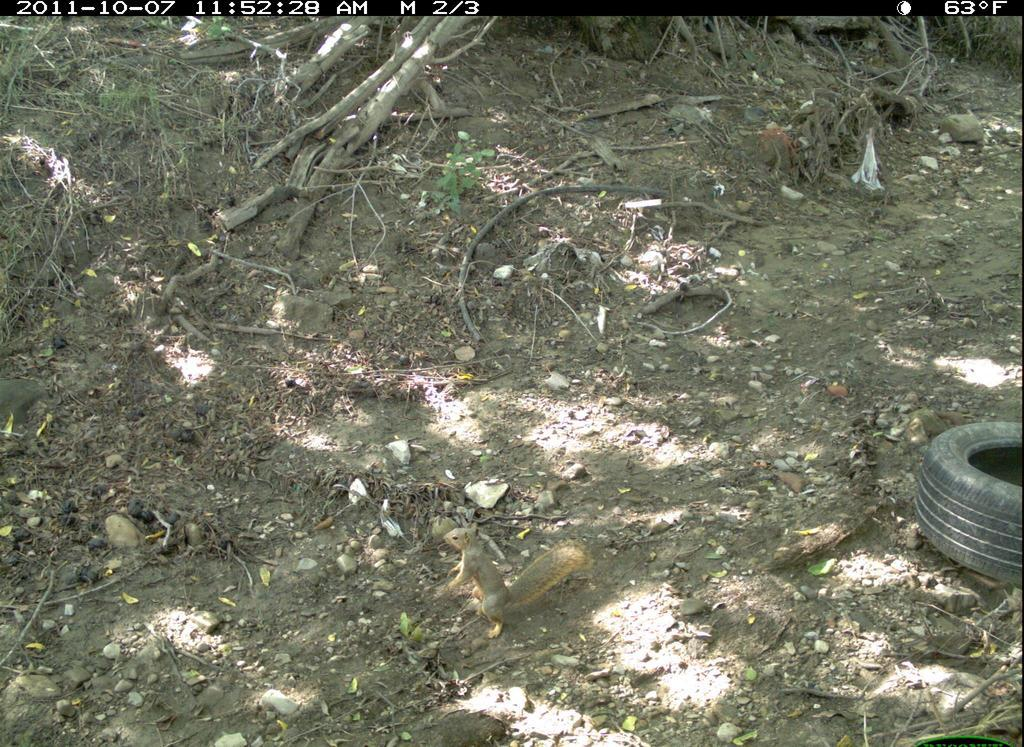squirrel: (437, 513, 591, 635)
